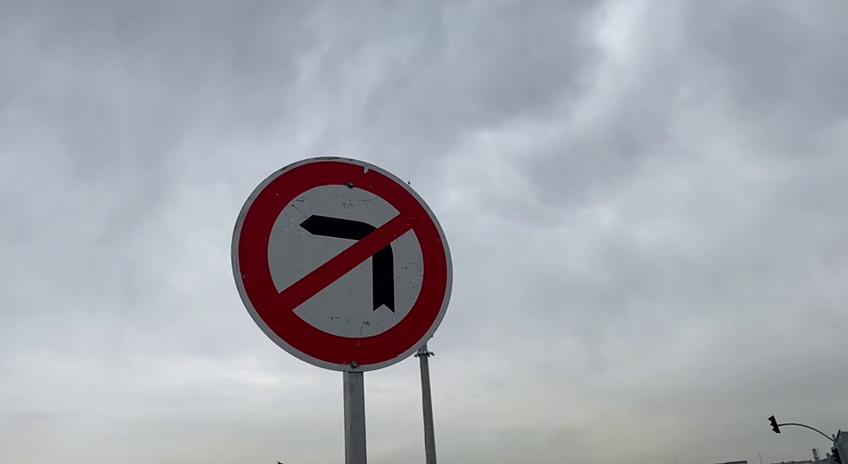noTurnLeft: (222, 144, 460, 380)
